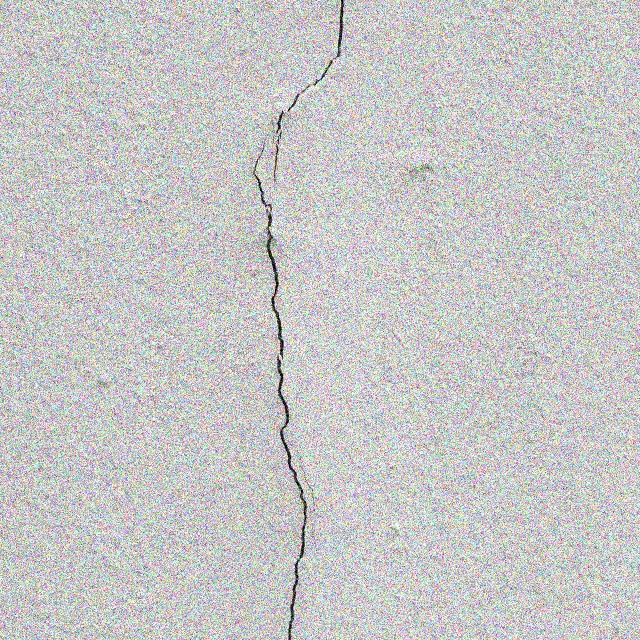SurfaceCrack: (220, 0, 381, 640)
